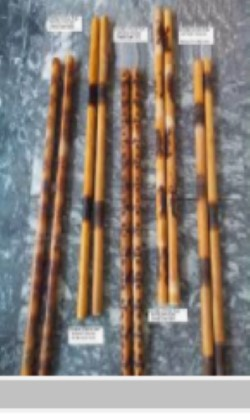baston_e: (16, 65, 63, 363), (203, 63, 243, 360), (43, 62, 72, 360), (188, 65, 215, 365), (72, 29, 97, 297), (162, 17, 185, 296), (128, 80, 147, 364), (117, 78, 134, 367), (152, 18, 167, 299), (89, 27, 104, 300)
baston_v: (16, 365, 38, 382), (61, 50, 76, 68), (214, 365, 228, 383), (200, 367, 214, 384), (89, 305, 105, 319), (167, 294, 182, 308), (155, 296, 168, 312), (49, 52, 62, 68), (161, 5, 177, 17), (128, 62, 142, 75), (117, 66, 130, 80), (75, 310, 89, 323), (36, 369, 50, 382), (201, 51, 213, 66), (119, 370, 133, 382), (192, 54, 203, 69), (132, 369, 147, 380), (151, 6, 163, 19), (89, 13, 100, 23), (98, 12, 110, 21)
